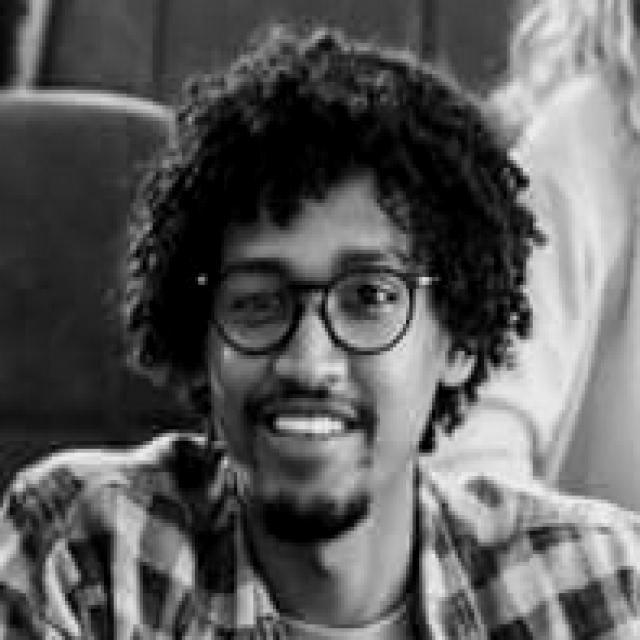Looking forward: (205, 182, 449, 545)
